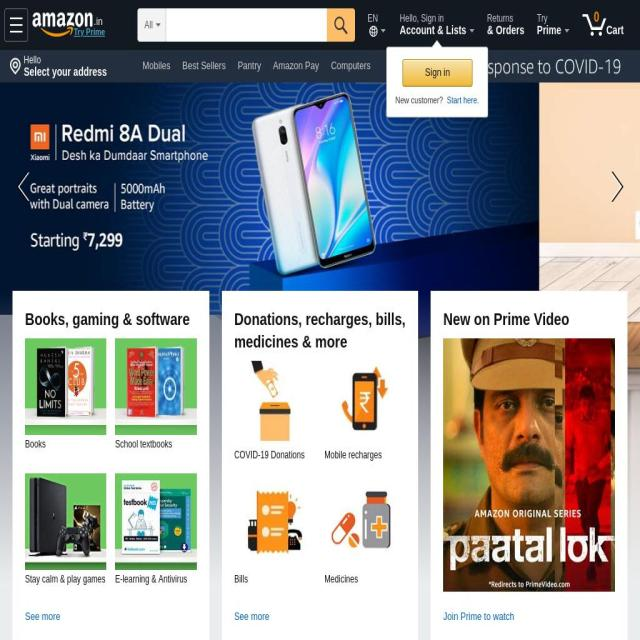button: (443, 338, 616, 592), (0, 82, 50, 291), (590, 82, 640, 291), (390, 50, 640, 82), (25, 338, 107, 435), (115, 338, 197, 435), (25, 473, 107, 570), (115, 473, 197, 570), (234, 361, 316, 447), (324, 361, 406, 447), (234, 484, 316, 570), (324, 484, 406, 570), (33, 4, 133, 46), (394, 5, 481, 47), (7, 51, 114, 83), (443, 608, 616, 624), (25, 608, 197, 624), (234, 608, 406, 624), (576, 5, 638, 47), (5, 8, 90, 38), (481, 5, 531, 47), (402, 59, 473, 87), (531, 5, 575, 47), (236, 92, 311, 113), (358, 5, 393, 47), (214, 128, 279, 150), (138, 92, 200, 113), (268, 55, 324, 77), (177, 55, 231, 77), (326, 55, 376, 77), (138, 128, 182, 150), (138, 55, 176, 77), (4, 8, 28, 42), (232, 55, 266, 77), (202, 92, 234, 113), (184, 128, 213, 150), (313, 92, 337, 113), (74, 28, 105, 36)
field: (166, 9, 327, 41), (326, 8, 355, 42)
heading: (234, 308, 406, 352), (443, 308, 616, 330), (25, 308, 197, 330)
image: (443, 338, 616, 592), (390, 50, 640, 82), (25, 338, 107, 435), (115, 338, 197, 435), (25, 473, 107, 570), (115, 473, 197, 570), (234, 361, 316, 447), (324, 361, 406, 447), (234, 484, 316, 570), (324, 484, 406, 570), (33, 12, 93, 38), (582, 14, 606, 36), (8, 57, 22, 76), (10, 18, 22, 32), (368, 25, 378, 37)
link: (14, 165, 36, 208), (604, 165, 626, 208), (447, 95, 480, 105)
text: (402, 60, 472, 85), (24, 66, 114, 82), (25, 571, 106, 587), (115, 571, 187, 587), (234, 448, 305, 463), (399, 23, 467, 37), (115, 436, 173, 452), (324, 448, 382, 463), (487, 24, 531, 41), (399, 13, 450, 24), (324, 571, 358, 587), (395, 95, 445, 105), (487, 13, 519, 24), (537, 23, 562, 37), (25, 436, 46, 452), (24, 54, 48, 66), (144, 12, 154, 39), (333, 17, 348, 34), (606, 23, 624, 37), (234, 571, 248, 587), (537, 13, 553, 24), (367, 13, 378, 24), (94, 16, 102, 27)
